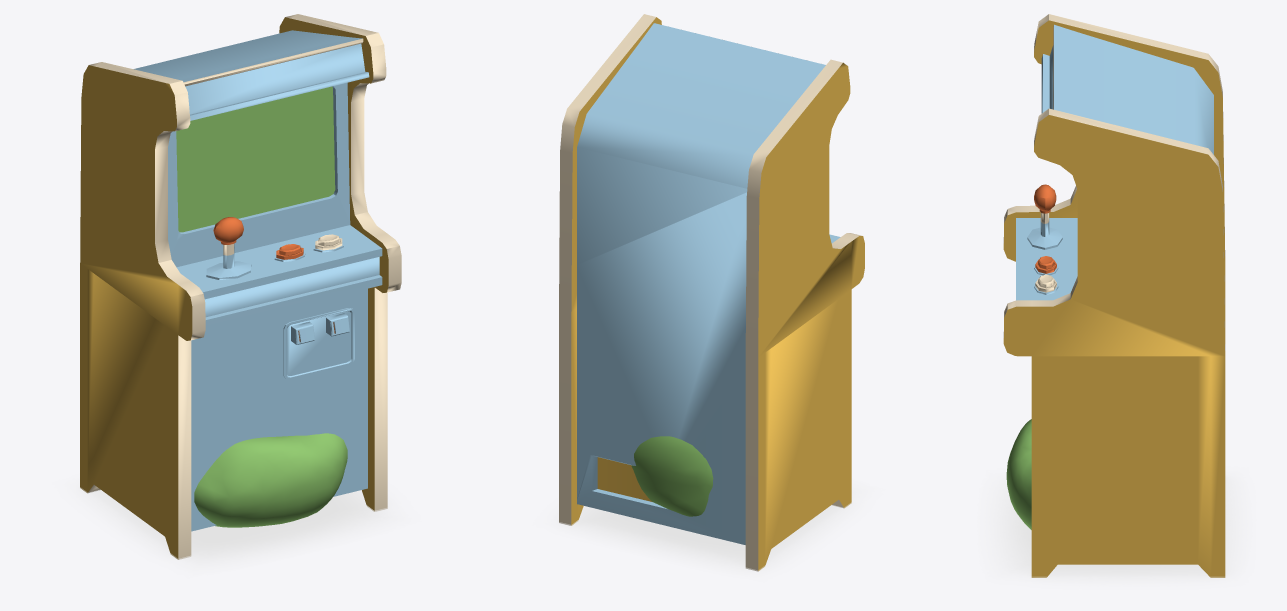
File: interest_game_v1_draco_webp.glb
The picture shows the model from 3 angles, left to right: view 1: azimuth 30°, elevation 25°; view 2: azimuth 150°, elevation 25°; view 3: azimuth 270°, elevation 25°; orthographic projection. The views are drawn at different scales.
Parts seen in each view (by area): view 1: arcade_cabinet, arcade_screen, bean_bag_body, shadow_arcade, shadow_bean_bag; view 2: arcade_cabinet, shadow_arcade, bean_bag_body, shadow_bean_bag; view 3: arcade_cabinet, shadow_arcade, bean_bag_body, shadow_bean_bag.
Part boxes in pixels (x1=…): arcade_cabinet: x1=80, y1=14, x2=401, y2=559; arcade_screen: x1=176, y1=86, x2=335, y2=232; bean_bag_body: x1=194, y1=433, x2=347, y2=527; shadow_arcade: x1=76, y1=484, x2=393, y2=565; shadow_bean_bag: x1=199, y1=491, x2=380, y2=559; arcade_cabinet: x1=559, y1=14, x2=864, y2=571; shadow_arcade: x1=555, y1=490, x2=854, y2=571; bean_bag_body: x1=631, y1=436, x2=713, y2=516; shadow_bean_bag: x1=576, y1=505, x2=833, y2=565; arcade_cabinet: x1=1003, y1=14, x2=1225, y2=577; shadow_arcade: x1=997, y1=475, x2=1238, y2=582; bean_bag_body: x1=1006, y1=419, x2=1031, y2=529; shadow_bean_bag: x1=994, y1=487, x2=1233, y2=569.
Bounding box in the file's own units: 0.98 × 1.5 × 0.93.
8 materials, 1 textured.
